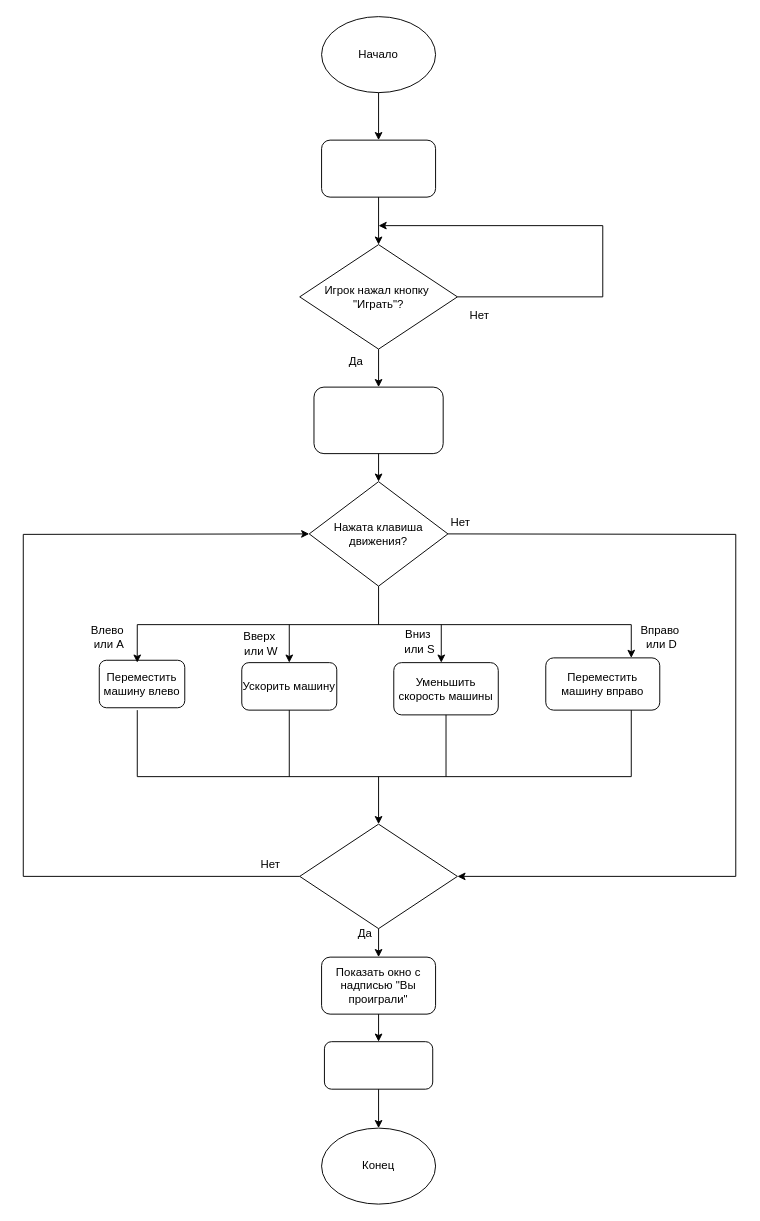
Image size: 760x1221. Some labels were removed from this diagram. The shapes that lost their labels are listed below. From the top down, each one's centre as x and y in pixels, then its label:
At (378,168): "Окно меню".
At (378,420): "Создание и отрисовка всех необходимых элементов".
At (378,876): "Произошла коллизия машин?".
At (378,1065): "Выход в меню".
